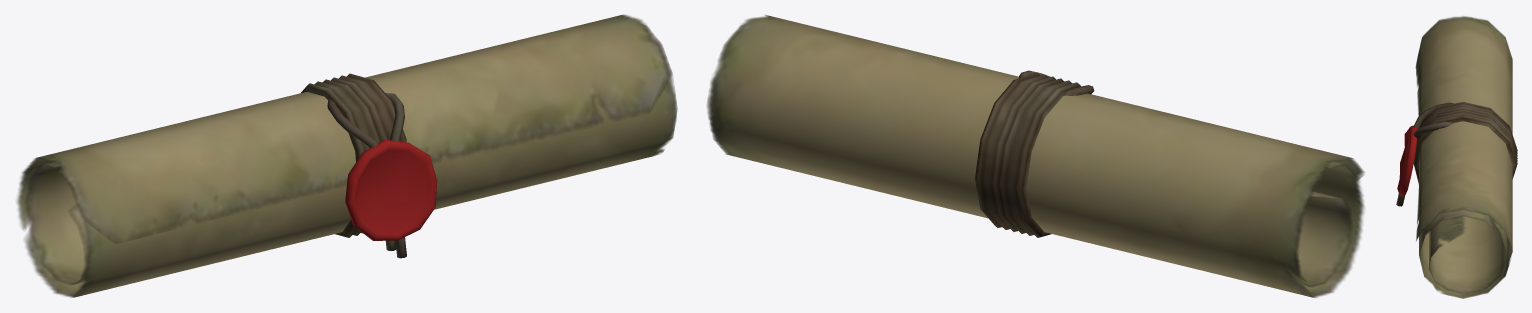
The model's file is obj_scroll_2.glb.
3 renders of one model, left to right at view 1: azimuth 30°, elevation 25°; view 2: azimuth 150°, elevation 25°; view 3: azimuth 270°, elevation 25°, orthographic. The views are drawn at different scales.
Parts seen in each view (by area): view 1: defaultMaterial; view 2: defaultMaterial; view 3: defaultMaterial.
Boxes of the visible parts, x1=… form: defaultMaterial: x1=16, y1=14, x2=677, y2=297; defaultMaterial: x1=706, y1=15, x2=1364, y2=297; defaultMaterial: x1=1396, y1=16, x2=1517, y2=298.
Bounding box in the file's own units: 0.3 × 0.0686 × 0.0773.
Materials: 1 (1 with a texture image).
